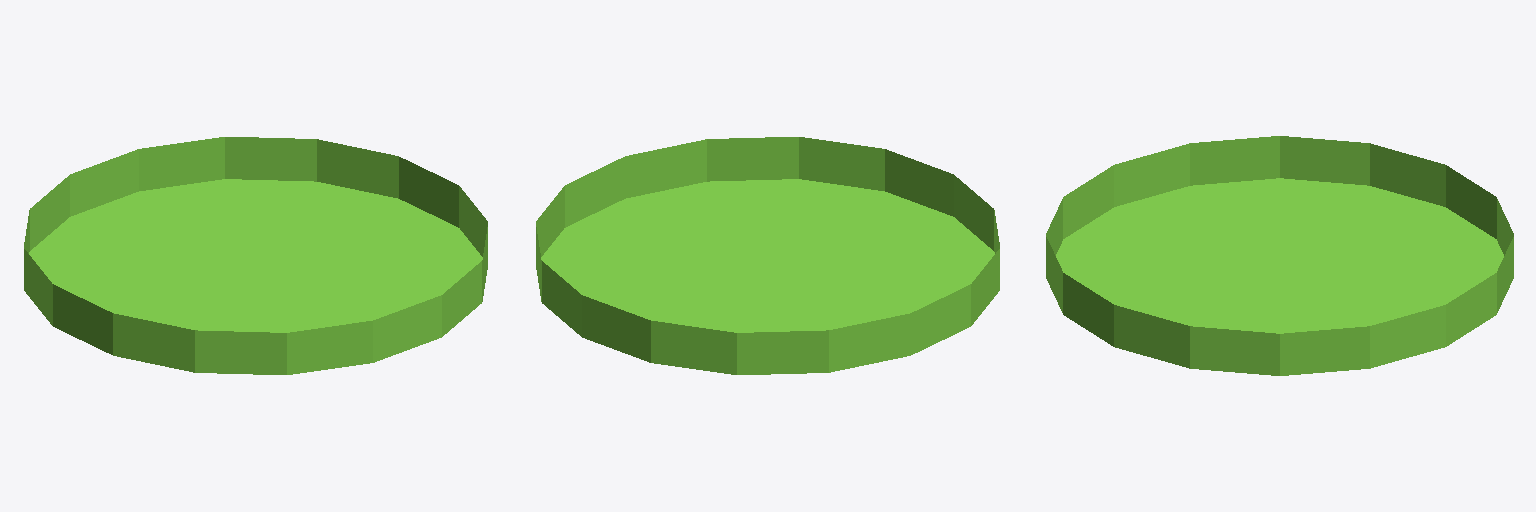
The model's file is light.obj.
3 renders of one model, left to right at view 1: azimuth 30°, elevation 25°; view 2: azimuth 150°, elevation 25°; view 3: azimuth 270°, elevation 25°, orthographic.
Visible parts, largest first — view 1: Cylinder; view 2: Cylinder; view 3: Cylinder.
Boxes of the visible parts, x1,y1,x2,y2 form: Cylinder: [24, 137, 487, 374]; Cylinder: [536, 137, 999, 374]; Cylinder: [1046, 136, 1513, 375].
Size of the model in its own units: 0.2 by 0.02 by 0.2.